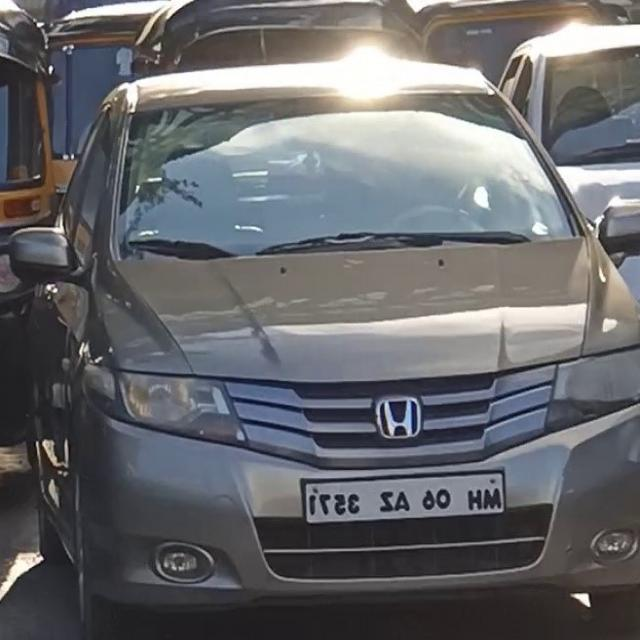license_plate: (295, 463, 509, 532)
